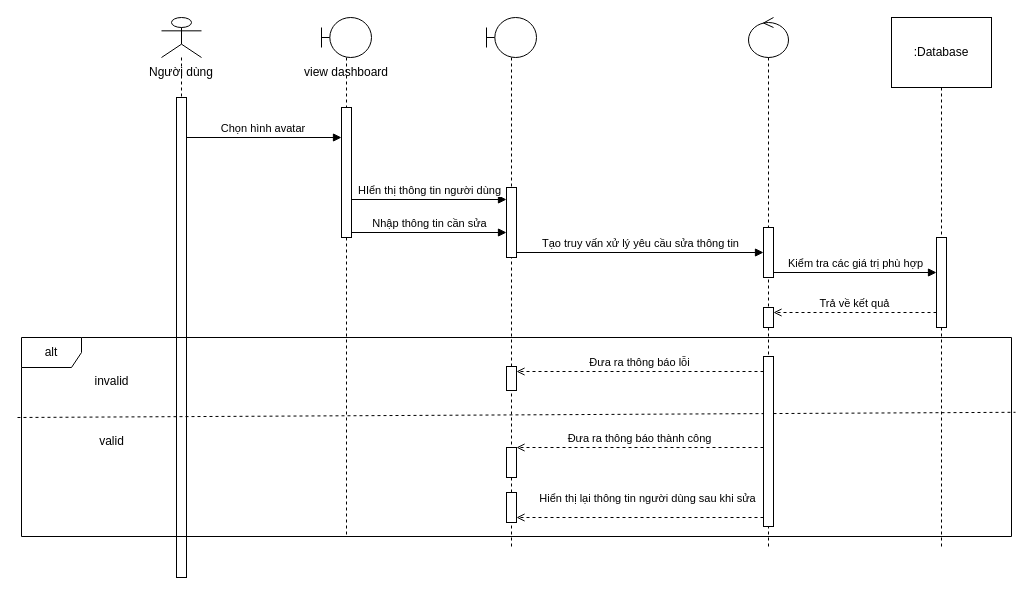
Some shapes in this 1034 by 595 pixel diagram are drawn without their labels. Each missing label, with the box of its shape:
controller người dùng: (748, 16, 788, 548)
view người dùng: (486, 16, 536, 548)
